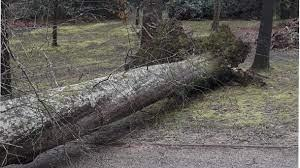Downstairs: (4, 27, 250, 168)
